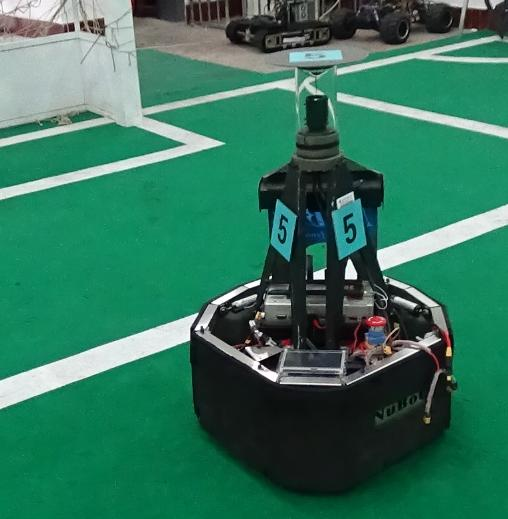robot: (189, 40, 458, 504)
